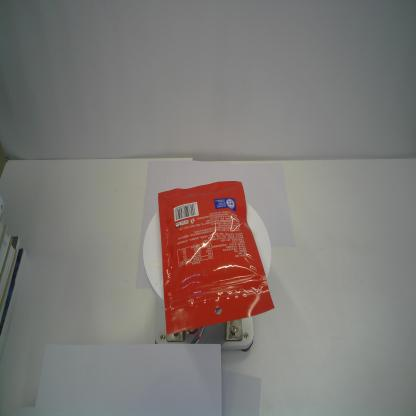Dried Fruit: (156, 179, 276, 336)
